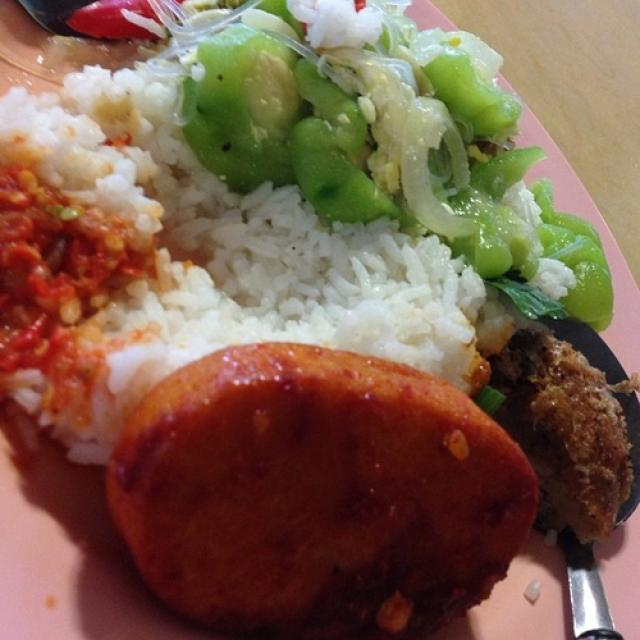米饭主食: (22, 18, 613, 621)
